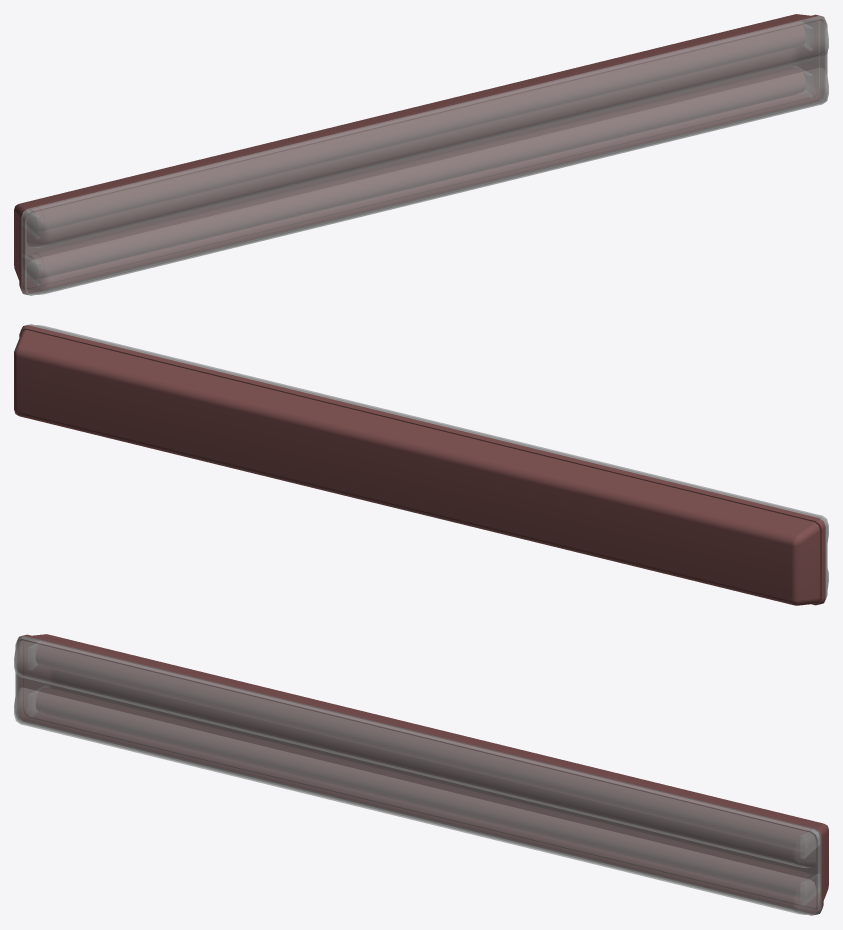
File: flurocentLight.fbx
3 views of the same model, one above another, from view 1: azimuth 30°, elevation 25°; view 2: azimuth 150°, elevation 25°; view 3: azimuth 330°, elevation 25° (orthographic).
Visible parts, largest first — view 1: Base, Cover, Light_1, Light_2; view 2: Cover, Base; view 3: Base, Cover, Light_1, Light_2.
Boxes of the visible parts, bbox=[...] form: Base: bbox=[21, 15, 828, 295]; Cover: bbox=[14, 14, 824, 294]; Light_1: bbox=[26, 68, 805, 278]; Light_2: bbox=[26, 22, 805, 231]; Cover: bbox=[14, 325, 825, 605]; Base: bbox=[28, 324, 828, 600]; Base: bbox=[14, 635, 821, 915]; Cover: bbox=[18, 634, 828, 914]; Light_1: bbox=[36, 687, 815, 897]; Light_2: bbox=[36, 641, 815, 851].
Bounding box in the file's own units: 120 × 12.32 × 8.66.
